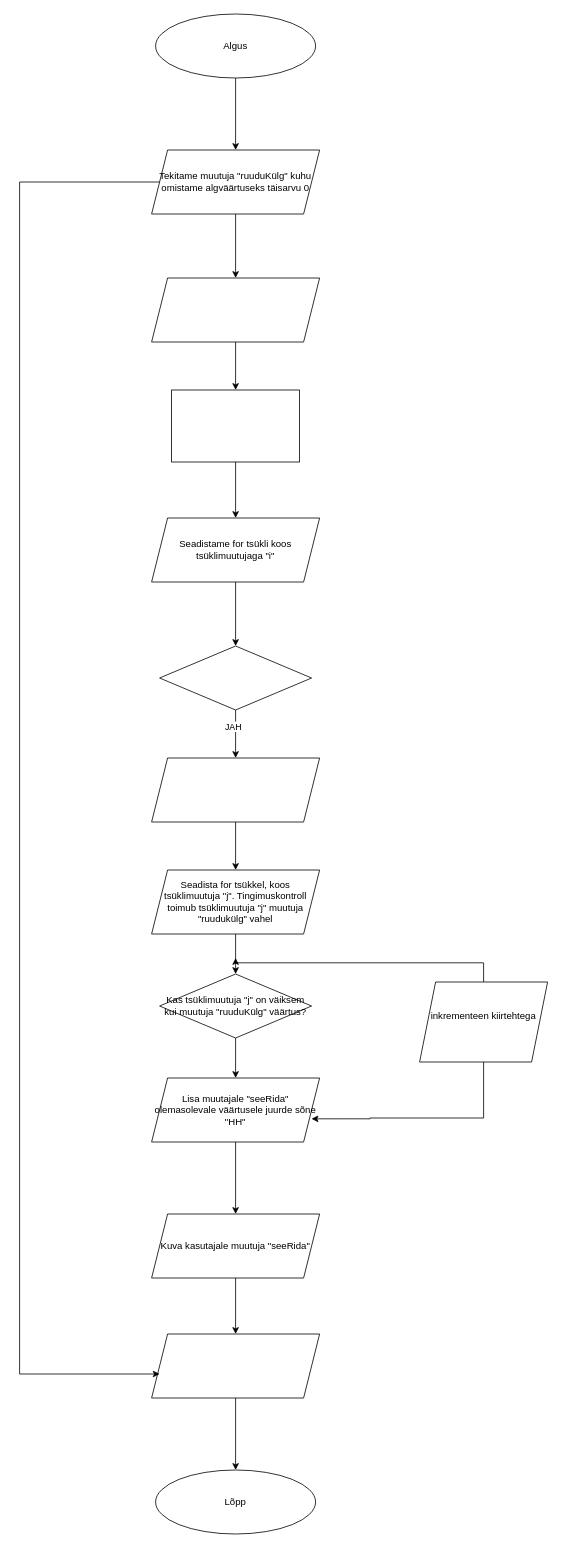
Image size: 562x1548. Some labels were removed from this diagram. Here are the shapes that lost their labels. From the top down, the box of each, then its label:
(151, 277, 320, 342): Kuva kasutajale tekst "Kui suurt ruutu tahad näha?"
(171, 389, 300, 462): oota kuni kasutaj sisestab muutujasse "ruuduKülg" väärtuse
(159, 645, 312, 710): Kas tsüklimuutuja "i" on väiksem, kui muutuja "ruuduKülg" väärtus?
(151, 757, 320, 822): Tekitame muutuja "seeRida" miillele omistame algväärtuseks "".
(151, 1333, 320, 1398): Kuva kasutajale tekst "tsükli on lõpetanud
